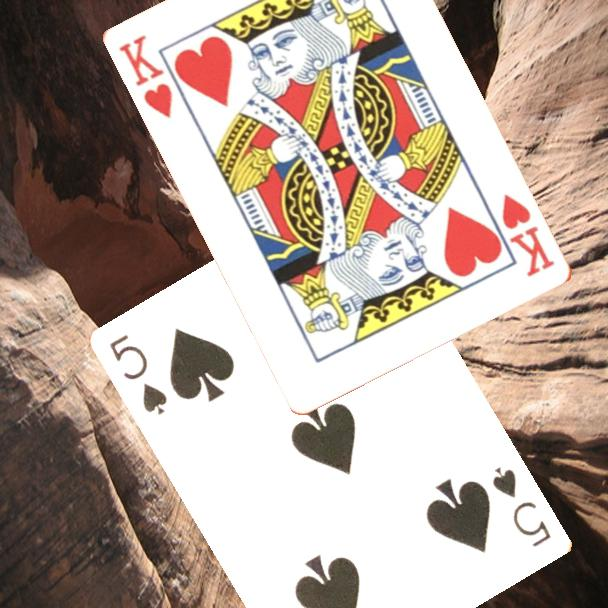h13: (115, 31, 176, 122), (499, 190, 559, 280)
s05: (489, 463, 555, 551), (106, 330, 172, 418)
